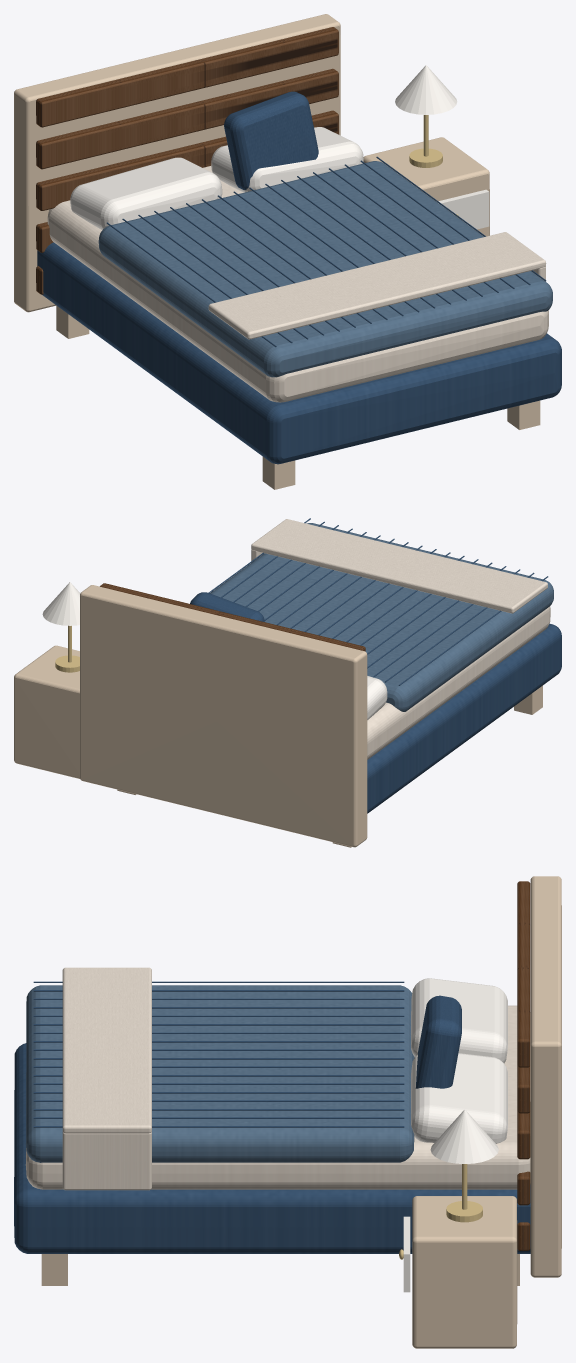
The model's file is Bed_01.glb.
The picture shows the model from 3 angles, top to bottom: view 1: azimuth 30°, elevation 25°; view 2: azimuth 150°, elevation 25°; view 3: azimuth 270°, elevation 25°; orthographic projection. The views are drawn at different scales.
Visible parts, largest first — view 1: duvet_13, upholstered_bed_base_5, timber_headboard_6, mattress_12, folded_throw_35, horizontal_timber_slat_11, horizontal_timber_slat_10, sleeping_pillow_32, accent_cushion_34, bedside_cabinet_37, horizontal_timber_slat_9, sleeping_pillow_33 (+5 smaller); view 2: timber_headboard_6, duvet_13, folded_throw_35, upholstered_bed_base_5, bedside_cabinet_37, mattress_12, horizontal_timber_slat_11, lampshade_42, accent_cushion_34, sleeping_pillow_32, bed_foot_2; view 3: duvet_13, upholstered_bed_base_5, bedside_cabinet_37, folded_throw_35, mattress_12, timber_headboard_6, sleeping_pillow_33, throw_drape_36, sleeping_pillow_32, accent_cushion_34, horizontal_timber_slat_11, lampshade_42 (+5 smaller).
Part boxes in pixels (bbox=[...]): duvet_13: bbox=[98, 161, 552, 377]; upholstered_bed_base_5: bbox=[37, 242, 561, 464]; timber_headboard_6: bbox=[14, 14, 340, 312]; mattress_12: bbox=[47, 166, 548, 402]; folded_throw_35: bbox=[208, 232, 546, 339]; horizontal_timber_slat_11: bbox=[36, 27, 338, 127]; horizontal_timber_slat_10: bbox=[36, 68, 338, 169]; sleeping_pillow_32: bbox=[70, 157, 222, 230]; accent_cushion_34: bbox=[224, 91, 318, 189]; bedside_cabinet_37: bbox=[363, 137, 489, 236]; horizontal_timber_slat_9: bbox=[36, 110, 338, 210]; sleeping_pillow_33: bbox=[211, 127, 363, 192]; timber_headboard_6: bbox=[80, 585, 367, 847]; duvet_13: bbox=[210, 523, 553, 711]; folded_throw_35: bbox=[251, 519, 547, 613]; upholstered_bed_base_5: bbox=[367, 623, 561, 813]; bedside_cabinet_37: bbox=[14, 645, 79, 778]; mattress_12: bbox=[367, 606, 550, 759]; horizontal_timber_slat_11: bbox=[100, 583, 365, 651]; lampshade_42: bbox=[42, 582, 80, 625]; accent_cushion_34: bbox=[190, 592, 264, 621]; sleeping_pillow_32: bbox=[367, 676, 387, 719]; bed_foot_2: bbox=[514, 685, 542, 714]; duvet_13: bbox=[25, 985, 414, 1162]; upholstered_bed_base_5: bbox=[14, 1043, 530, 1253]; bedside_cabinet_37: bbox=[412, 1196, 517, 1348]; folded_throw_35: bbox=[62, 967, 151, 1133]; mattress_12: bbox=[25, 1005, 530, 1189]; timber_headboard_6: bbox=[530, 876, 561, 1277]; sleeping_pillow_33: bbox=[411, 1053, 507, 1143]; throw_drape_36: bbox=[62, 1132, 151, 1190]; sleeping_pillow_32: bbox=[411, 978, 507, 1063]; accent_cushion_34: bbox=[415, 995, 461, 1088]; horizontal_timber_slat_11: bbox=[517, 881, 530, 1067]; lampshade_42: bbox=[430, 1109, 498, 1163].
Bounding box in the file's own units: 1.98 × 1.07 × 2.09.
Materials: 7 (4 with a texture image).
